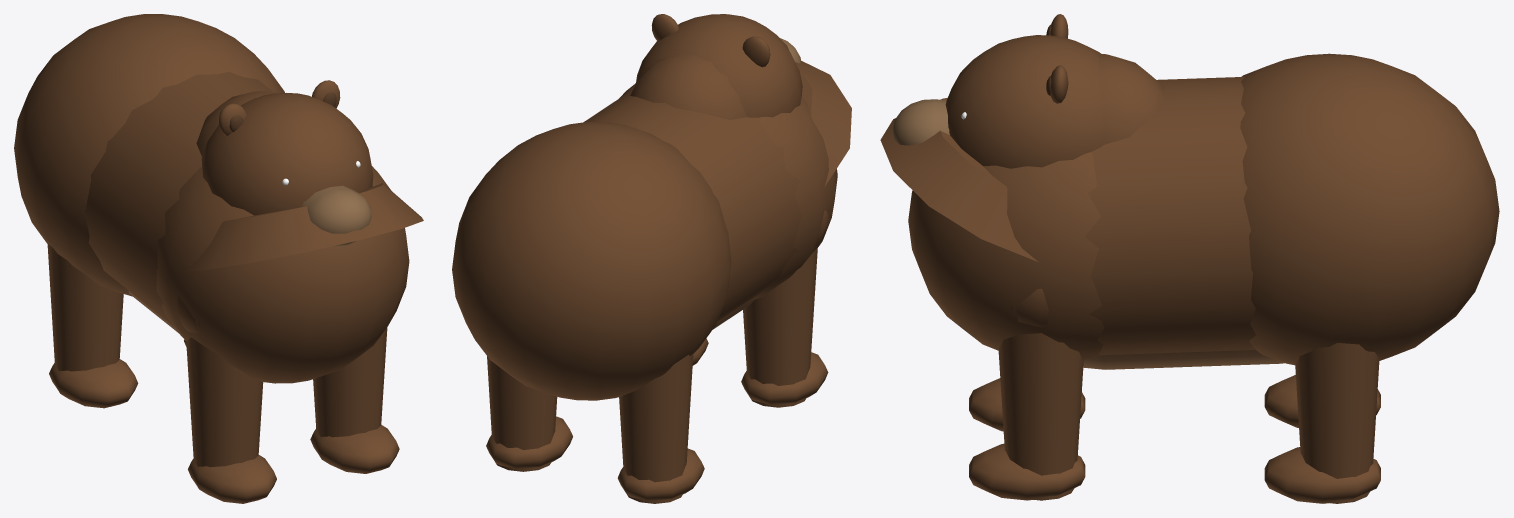
Rendered from h11-beruang.glb.
3 views of the same model, side by side, from view 1: azimuth 30°, elevation 25°; view 2: azimuth 150°, elevation 25°; view 3: azimuth 270°, elevation 25° (orthographic). The views are drawn at different scales.
Parts seen in each view (by area): view 1: Beruang Grizzly, head, neck; view 2: Beruang Grizzly, head, neck; view 3: Beruang Grizzly, head, neck.
Part boxes in pixels (bbox=[...]): Beruang Grizzly: bbox=[14, 14, 409, 503]; head: bbox=[201, 80, 373, 246]; neck: bbox=[181, 183, 423, 271]; Beruang Grizzly: bbox=[452, 53, 837, 503]; head: bbox=[635, 14, 802, 117]; neck: bbox=[795, 60, 851, 186]; Beruang Grizzly: bbox=[908, 53, 1499, 503]; head: bbox=[892, 14, 1104, 168]; neck: bbox=[880, 98, 1037, 261].
Bounding box in the file's own units: 0.66 × 0.968 × 1.3.
